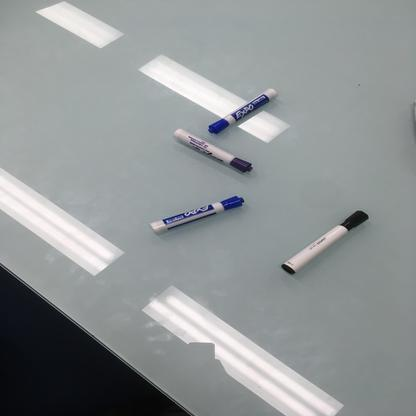expo_marker: (278, 208, 371, 281), (142, 194, 252, 239), (171, 126, 254, 177), (208, 87, 278, 135)
